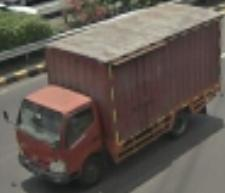truck: (1, 82, 112, 193)
